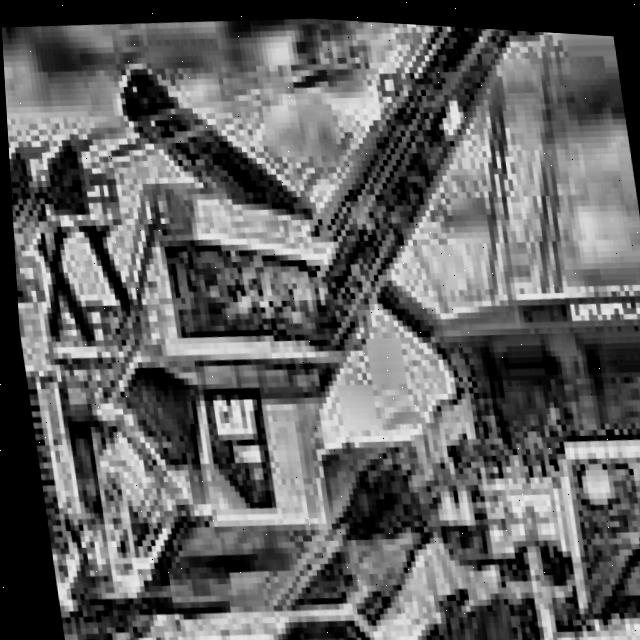dump_truck: (414, 231, 640, 640)
